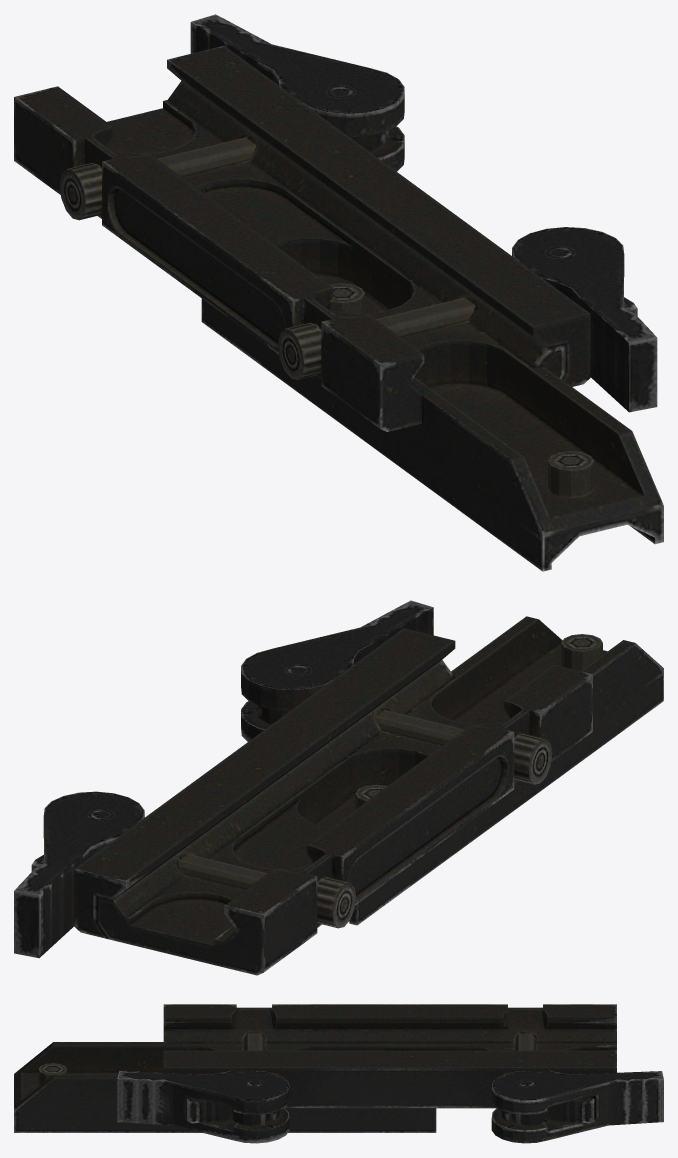
The picture shows the model from 3 angles, top to bottom: view 1: azimuth 30°, elevation 25°; view 2: azimuth 150°, elevation 25°; view 3: azimuth 270°, elevation 25°; orthographic projection. The views are drawn at different scales.
Visible parts, largest first — view 1: TW_5b3b6dc75acfc47a8773fb1e_PZ_Import; view 2: TW_5b3b6dc75acfc47a8773fb1e_PZ_Import; view 3: TW_5b3b6dc75acfc47a8773fb1e_PZ_Import.
Part boxes in pixels (x1,y1,x2,y2): TW_5b3b6dc75acfc47a8773fb1e_PZ_Import: (14, 14, 663, 571); TW_5b3b6dc75acfc47a8773fb1e_PZ_Import: (14, 600, 663, 975); TW_5b3b6dc75acfc47a8773fb1e_PZ_Import: (14, 1004, 663, 1143).
Size of the model in its own units: 0.0295 by 0.0824 by 0.0111.
1 material, 1 textured.
